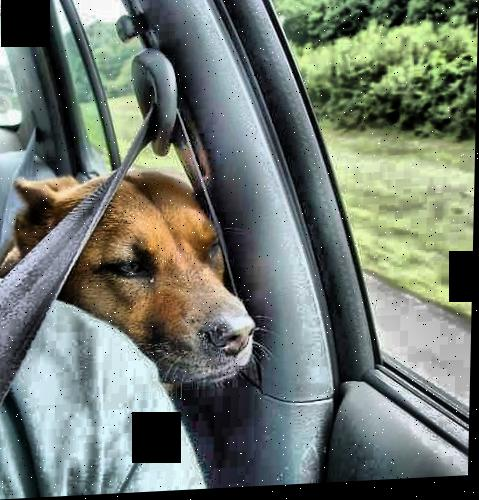seatbelt: (16, 79, 183, 353)
